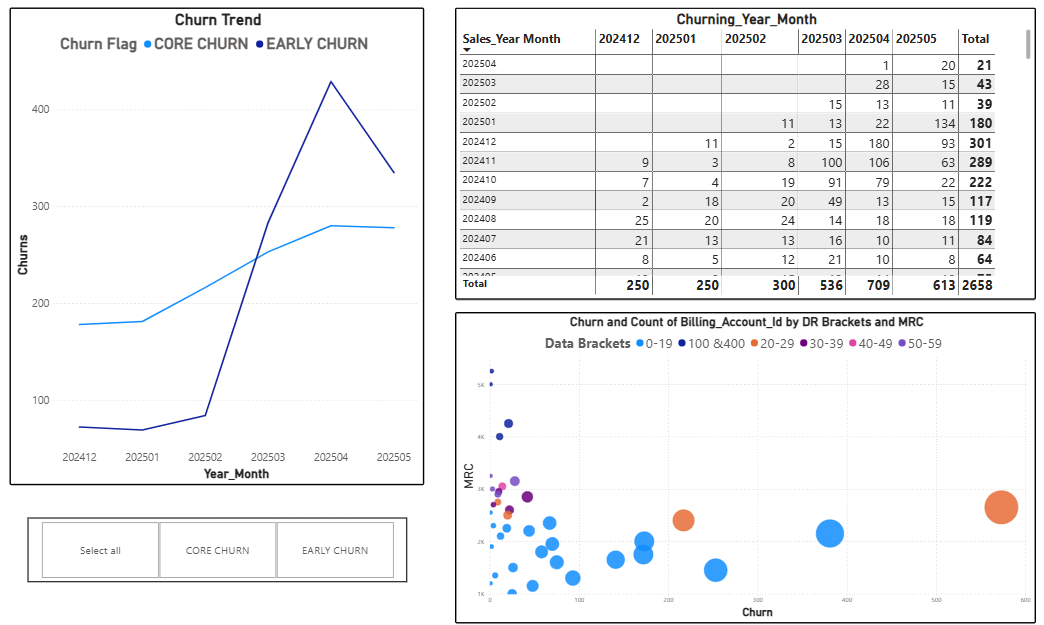

This screenshot's page, from the dashboard's own definition file:
{"tool":"powerbi","page":{"name":"Page 1","canvas":[2000,1200],"ordinal":0},"visuals":[{"type":"lineChart","title":"Churn Trend","fields":{"Category":["churn.Year_Month"],"Y":["CountNonNull(churn.Billing_Account_Id)"],"Series":["churn.Churn_Flag"]},"box":[26.7,20,790,910],"z":0},{"type":"pivotTable","title":"Churning_Year_Month","fields":{"Columns":["churn.Year_Month"],"Rows":["churn.sales.Year Month"],"Values":["Count(churn.Billing_Account_Id)"]},"box":[873.3,20,1106.7,556.7],"z":1000},{"type":"slicer","fields":{"Values":["churn.Churn_Flag"]},"box":[60,990,723.3,123.3],"z":2000},{"type":"scatterChart","title":"Churn and Count of Billing_Account_Id by DR Brackets and MRC","fields":{"Series":["churn.Data Brackets"],"X":["case study 02.Churn"],"Size":["Count(churn.Billing_Account_Id)"],"Y":["Sum(churn.sales.MRC)"]},"box":[873.3,600,1106.7,593.3],"z":3000}]}

Visuals, with their boxes in screenshot pixels (x1, y1, x2, y2), scaled from the page's 2000x1200 canvas onto the 1044x625 screenshot:
"Churn Trend" lineChart: rect(14, 10, 426, 484)
"Churning_Year_Month" pivotTable: rect(456, 10, 1034, 300)
slicer - churn.Churn_Flag: rect(31, 516, 409, 580)
"Churn and Count of Billing_Account_Id by DR Brackets and MRC" scatterChart: rect(456, 312, 1034, 622)
